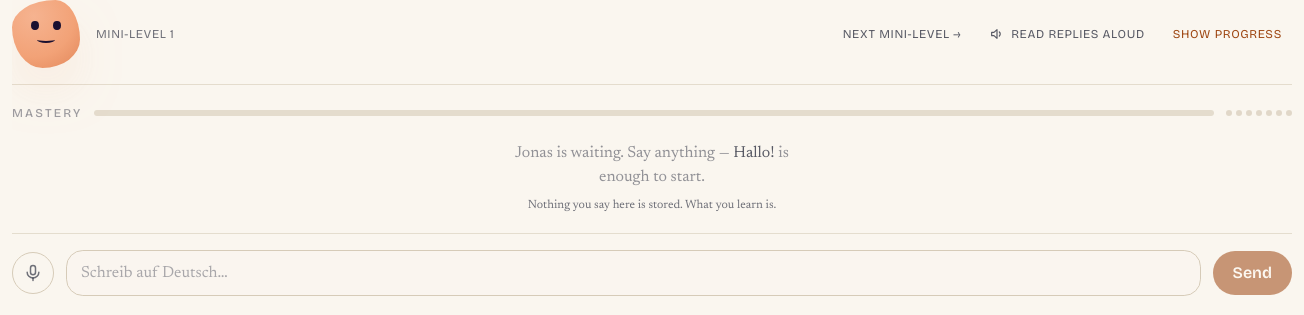
Test: speaking to the tutor › puts what was heard in the box rather than sending it
What coordinates should you click on to do the following:
click the button named "speak your message"
I would click on:
 (33, 273)
Its box is [12,252,54,294].
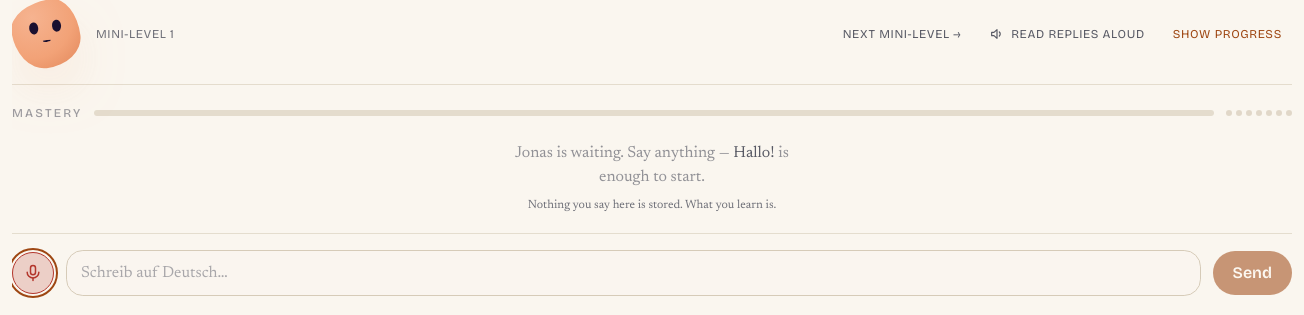
What coordinates should you click on to do the following:
click the button named "stop recording"
I would click on:
 (33, 273)
Its box is [12,252,54,294].
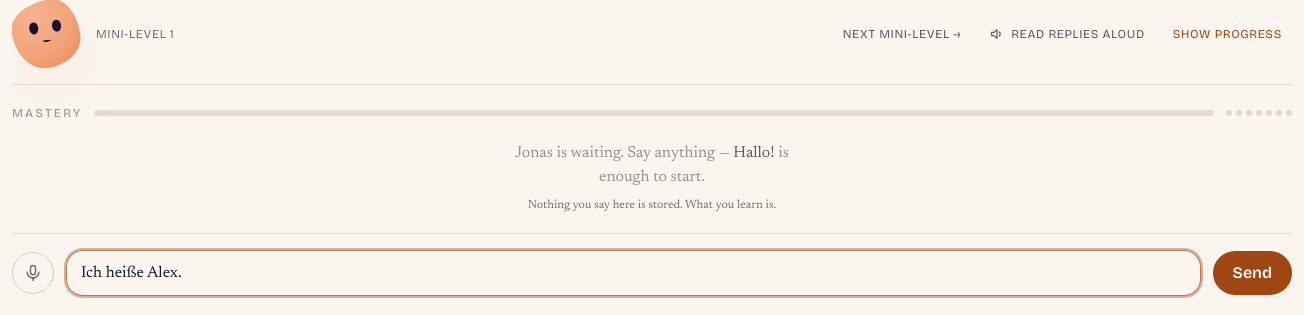
Expected: the field named "your message in german" holds "Ich heiße Alex.", [66,250,1201,296]
